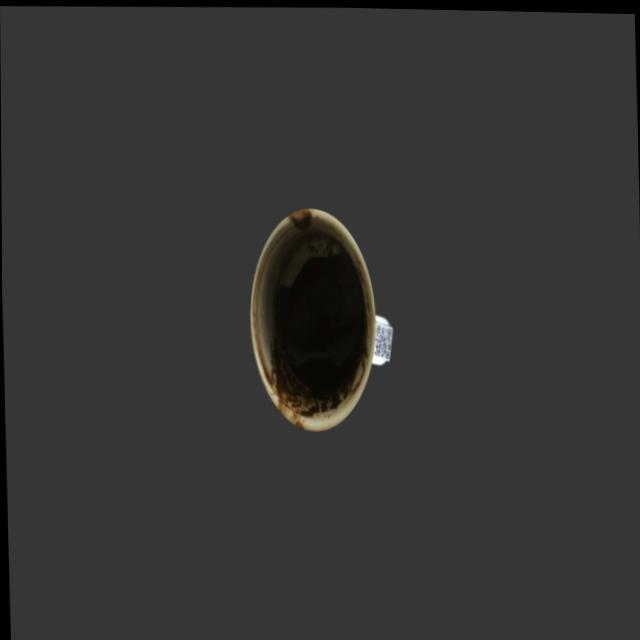cup: (244, 195, 396, 436)
